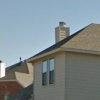Chimney: (50, 16, 74, 50)
